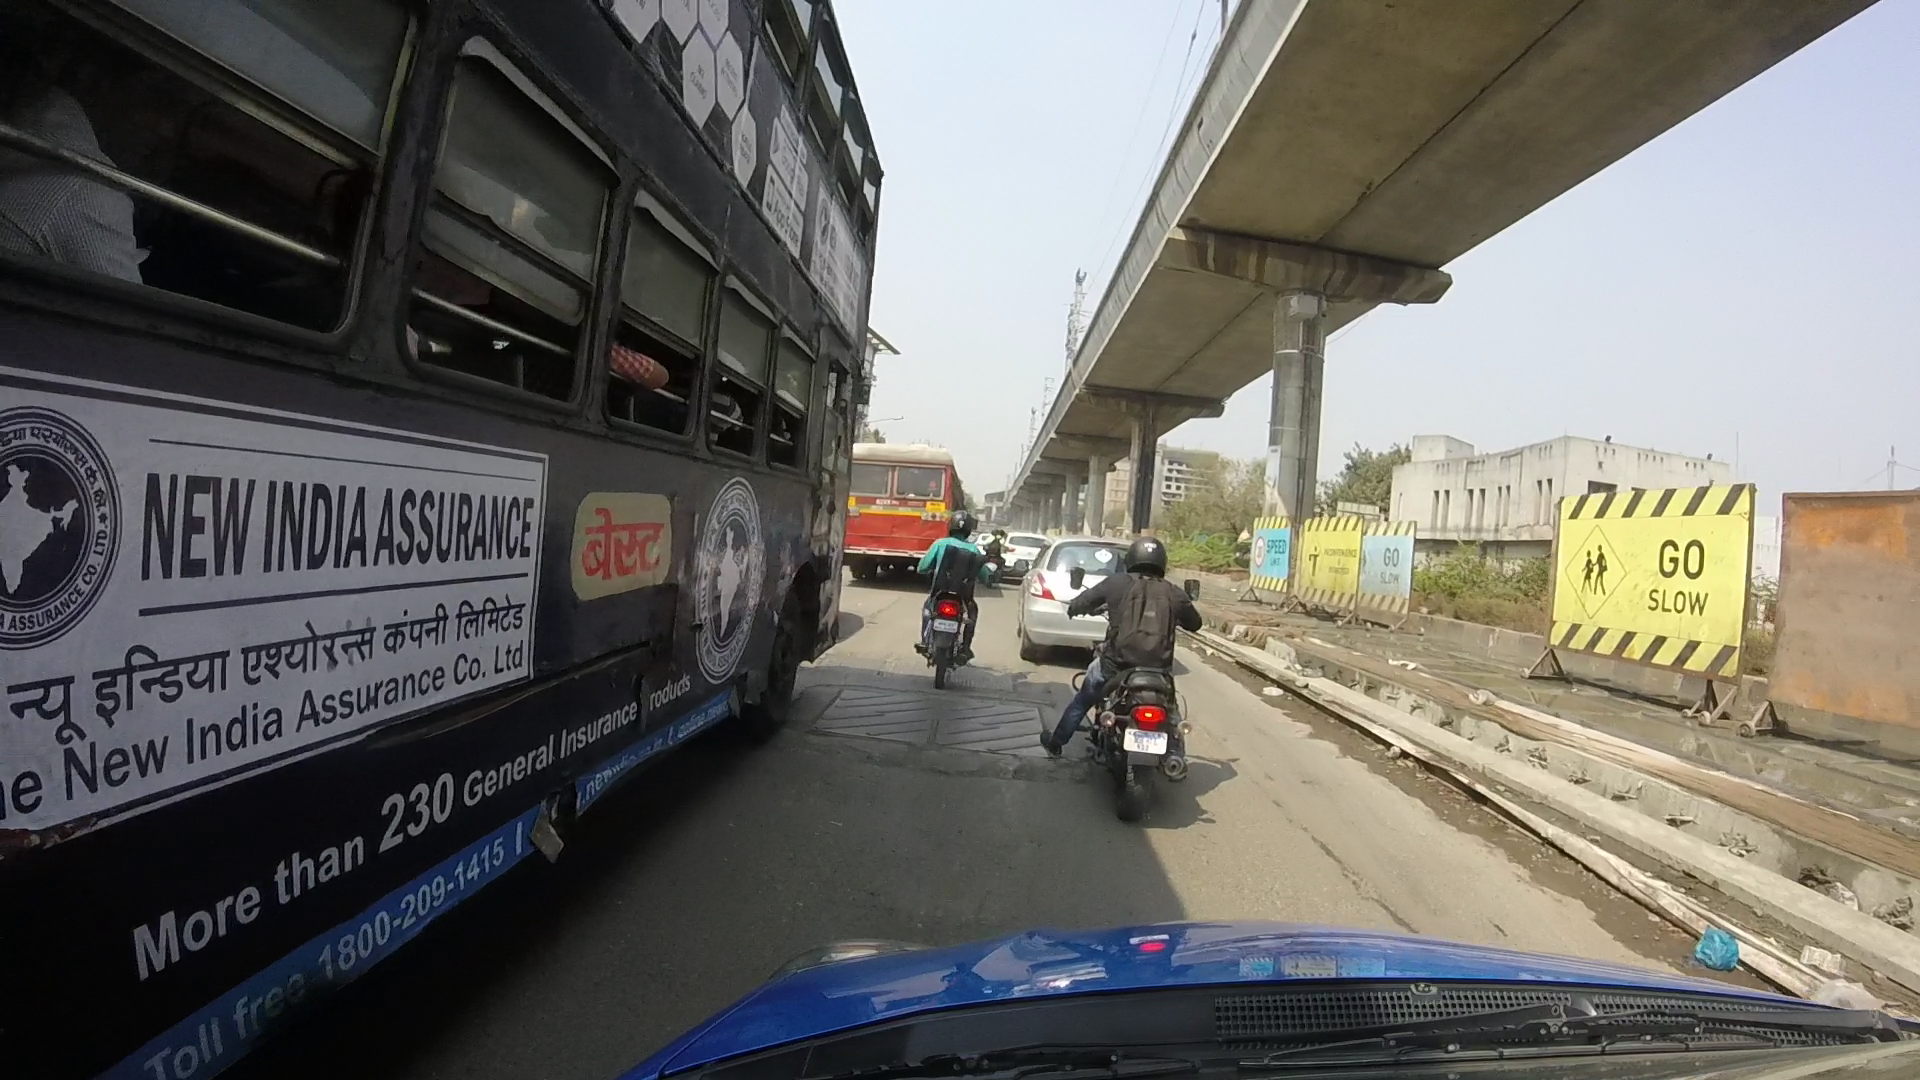bike/scooter: (1034, 539, 1208, 822), (922, 513, 993, 695)
bus: (13, 7, 895, 1069), (819, 436, 1000, 572), (1019, 545, 1172, 659)
